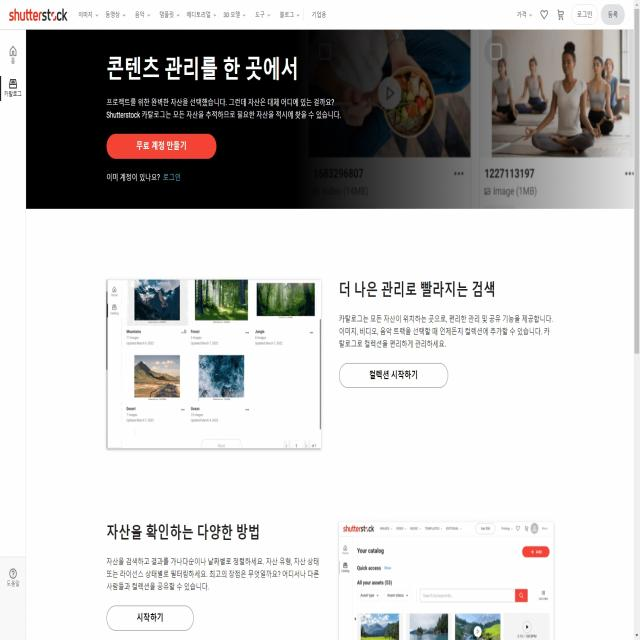menu-bar: (74, 2, 336, 25), (511, 3, 627, 26)
